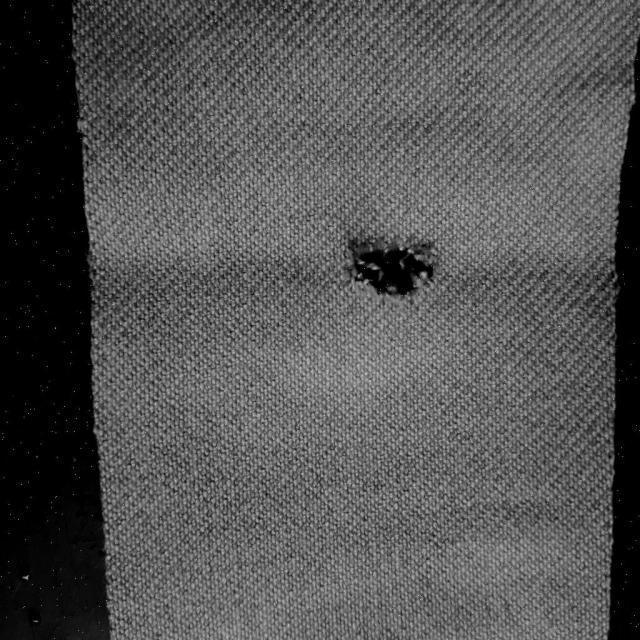seam: (328, 214, 450, 323)
